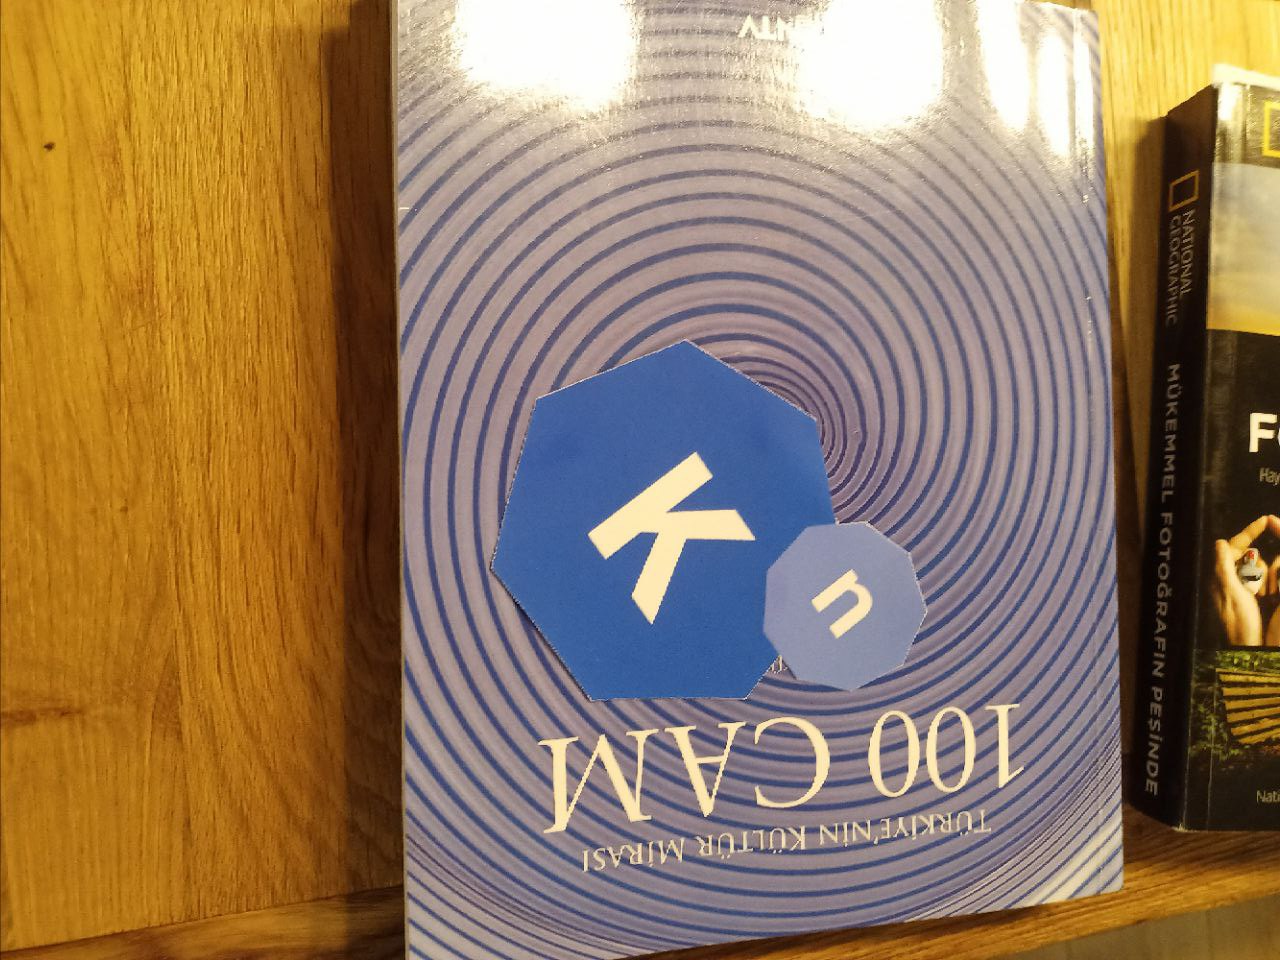knative: (482, 340, 923, 703)
